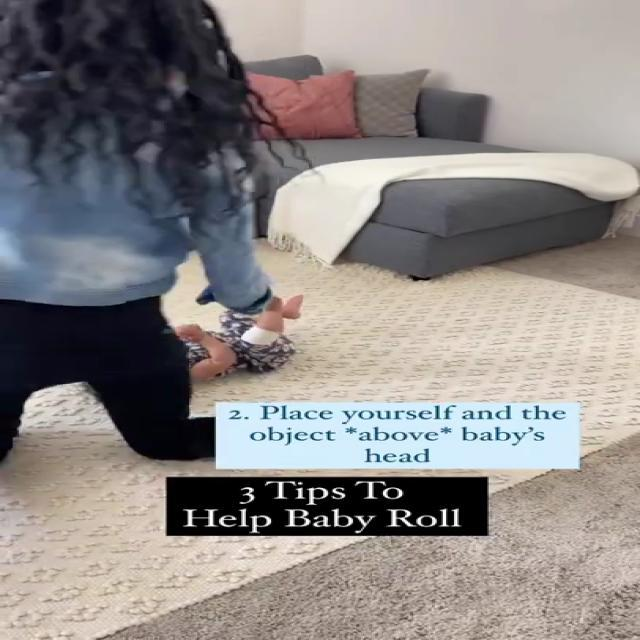baby: (161, 296, 315, 378)
